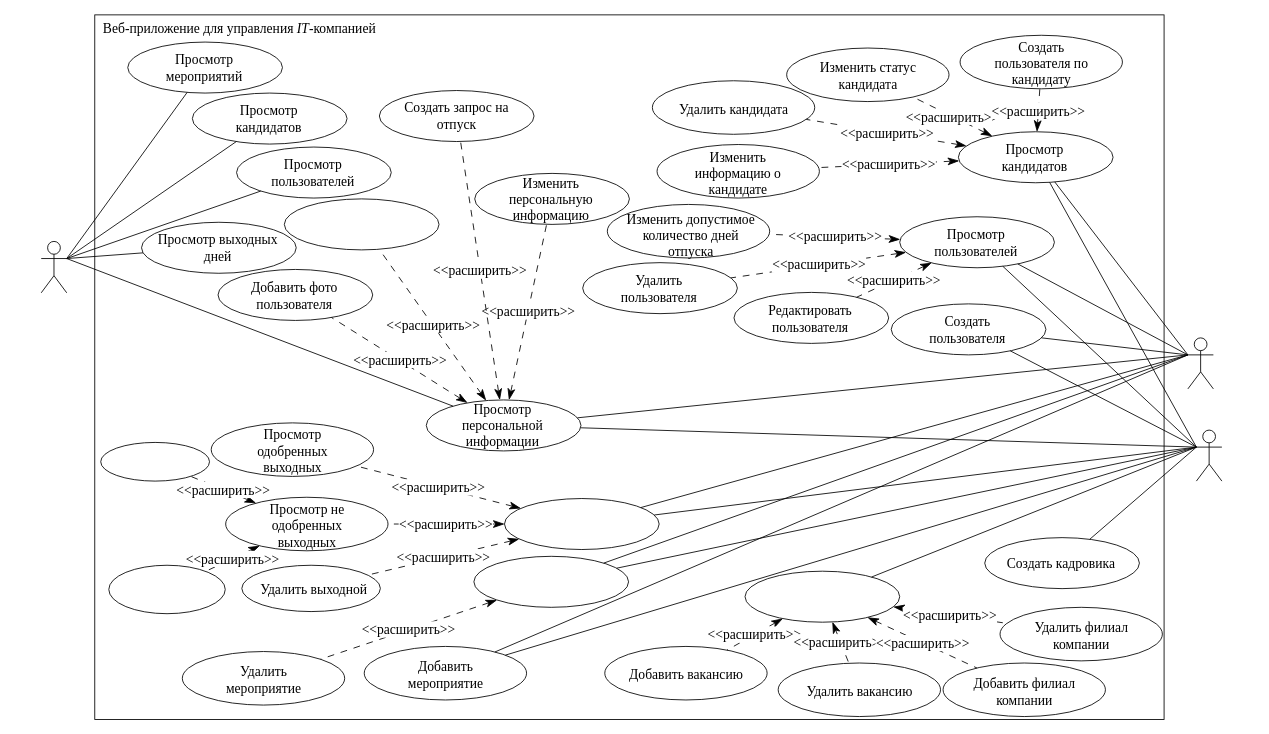
Some shapes in this 1269 by 734 pixel diagram are drawn without their labels. The shapes that lost their labels are listed below. From the top down, each one's centre as x and y in pixels, then its label:
the point at 361,224: Создать запрос на больничный
the point at 53,267: Пользователь
the point at 1200,363: Кадровик
the point at 155,461: Одобрить выходной
the point at 1209,455: Администратор
the point at 581,524: Просмотр выходных дней работников
the point at 166,589: Отклонить выходной
the point at 551,581: Просмотр списка мероприятий
the point at 822,596: Просмотр статистики о работниках
